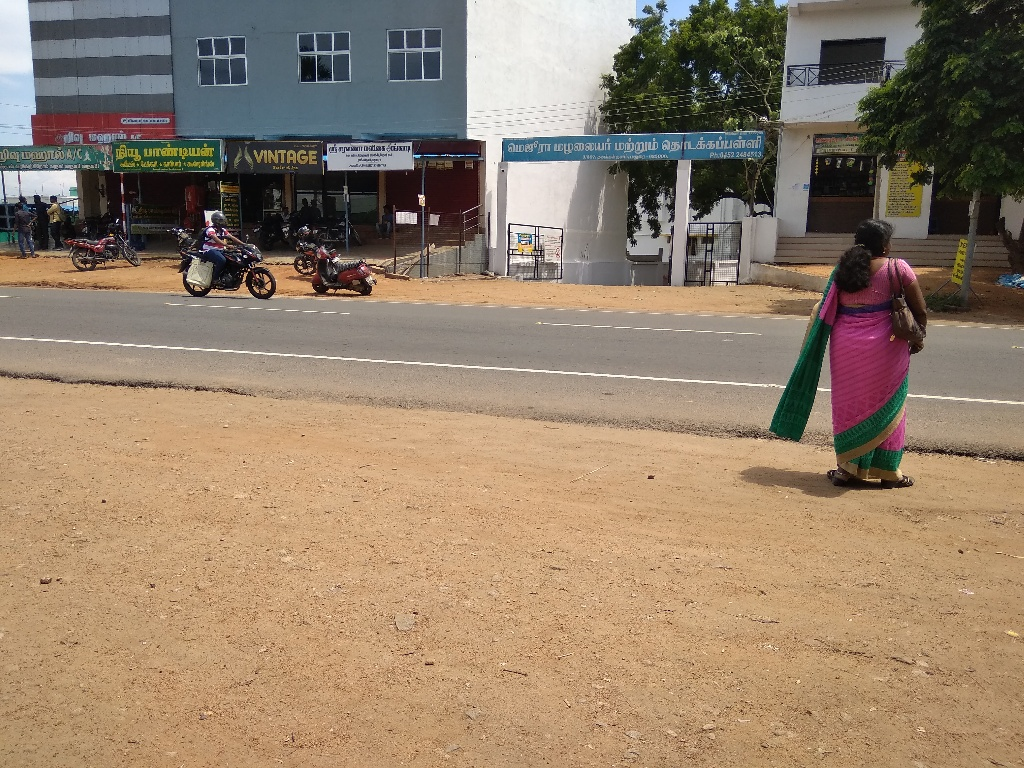biker: (166, 179, 279, 310)
helmet: (204, 203, 239, 243)
